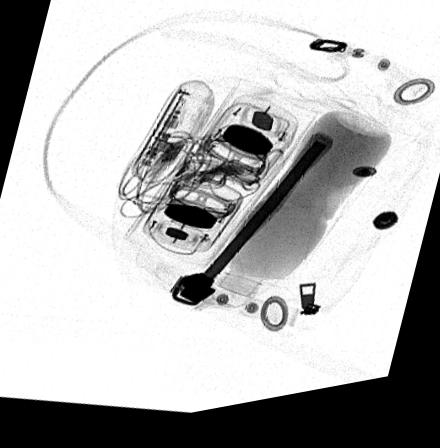Hammer: (180, 144, 332, 309)
